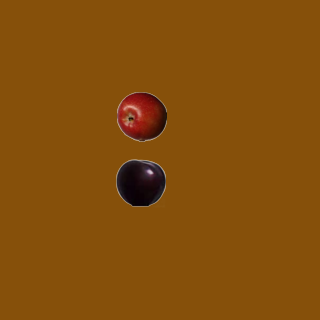Apple Braeburn: (116, 91, 166, 141)
Cherry Wax Black: (115, 157, 165, 207)
